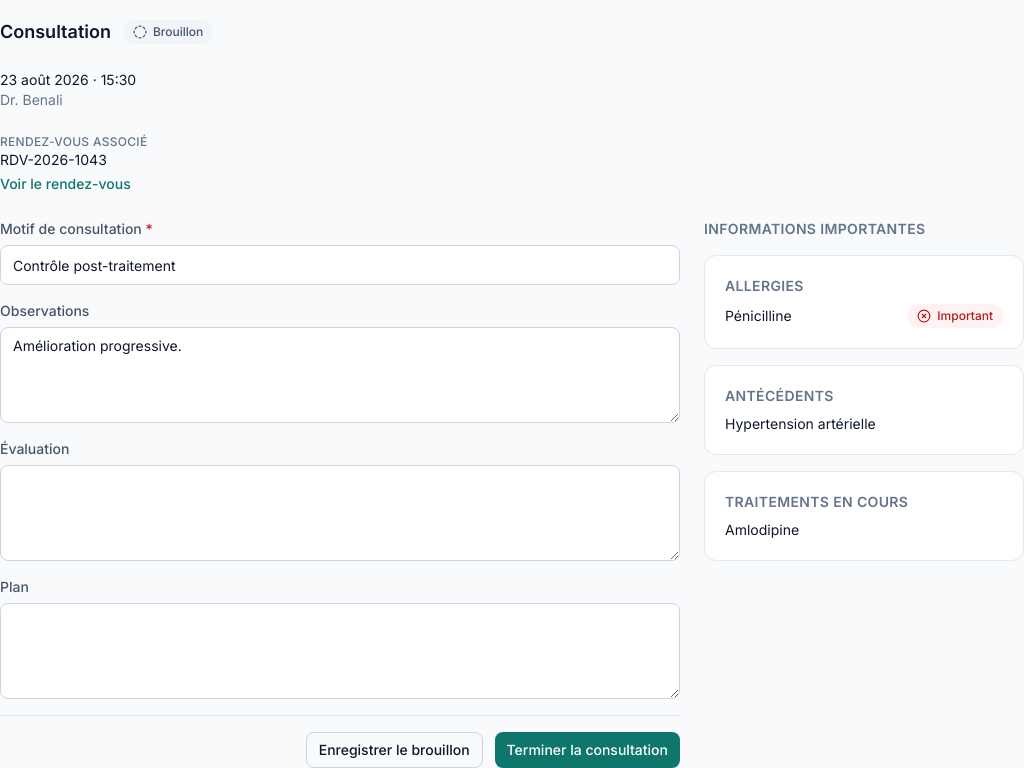
Test case: ConsultationWorkspacePage › opens a confirmation dialog before completing (14)
(page scrolled)
What coordinates should you click on to do the following:
click the button "Terminer la consultation"
I would click on:
 (587, 750)
Its box is [495,732,680,767].
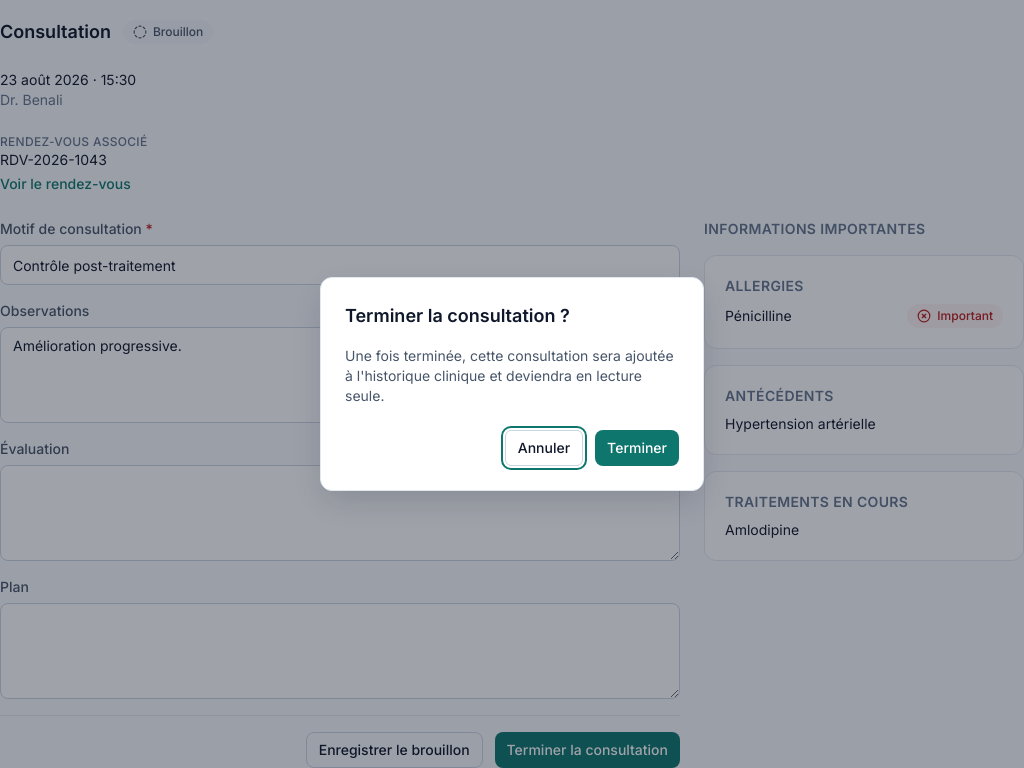
Check: the dialog "Terminer la consultation ?" is shown, box [320,277,704,491]
Check: the text "historique clinique" is shown, box [345,347,674,404]
